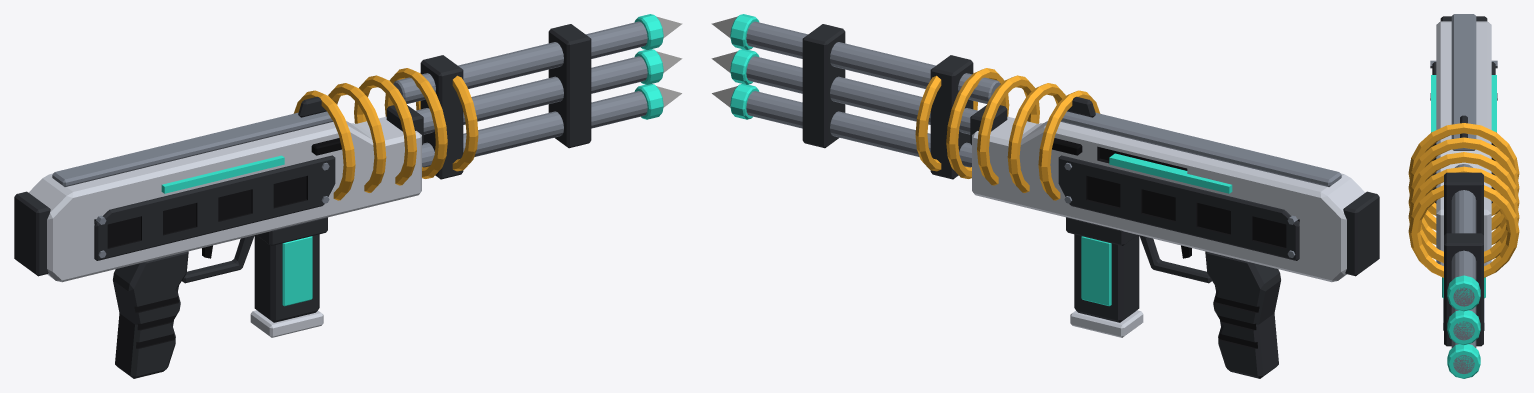
Rendered from multi_plasma42.obj.
3 views of the same model, side by side, from view 1: azimuth 30°, elevation 25°; view 2: azimuth 150°, elevation 25°; view 3: azimuth 270°, elevation 25° (orthographic). The views are drawn at different scales.
Visible parts, largest first — view 1: body, barrel, mag; view 2: body, barrel, mag; view 3: body, barrel, mag.
Boxes of the visible parts, <box> form: body: <box>14,68,478,378</box>; barrel: <box>393,14,663,179</box>; mag: <box>250,234,323,337</box>; body: <box>915,68,1379,378</box>; barrel: <box>730,14,1000,179</box>; mag: <box>1070,234,1143,337</box>; body: <box>1408,14,1519,277</box>; barrel: <box>1444,164,1483,378</box>; mag: <box>1442,277,1485,330</box>.
Bounding box in the file's own units: 0.5346 × 0.1804 × 0.0804.
